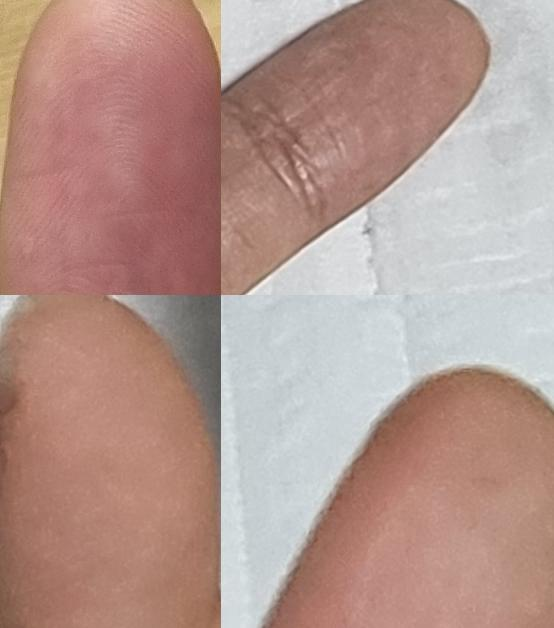Fingerprints: (261, 367, 554, 628), (0, 295, 221, 628), (0, 0, 221, 295), (228, 0, 490, 235)
